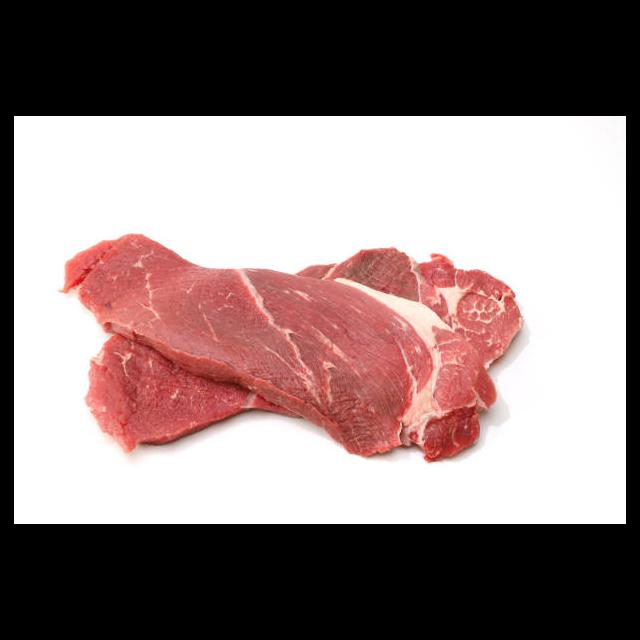beef: (59, 233, 523, 463)
